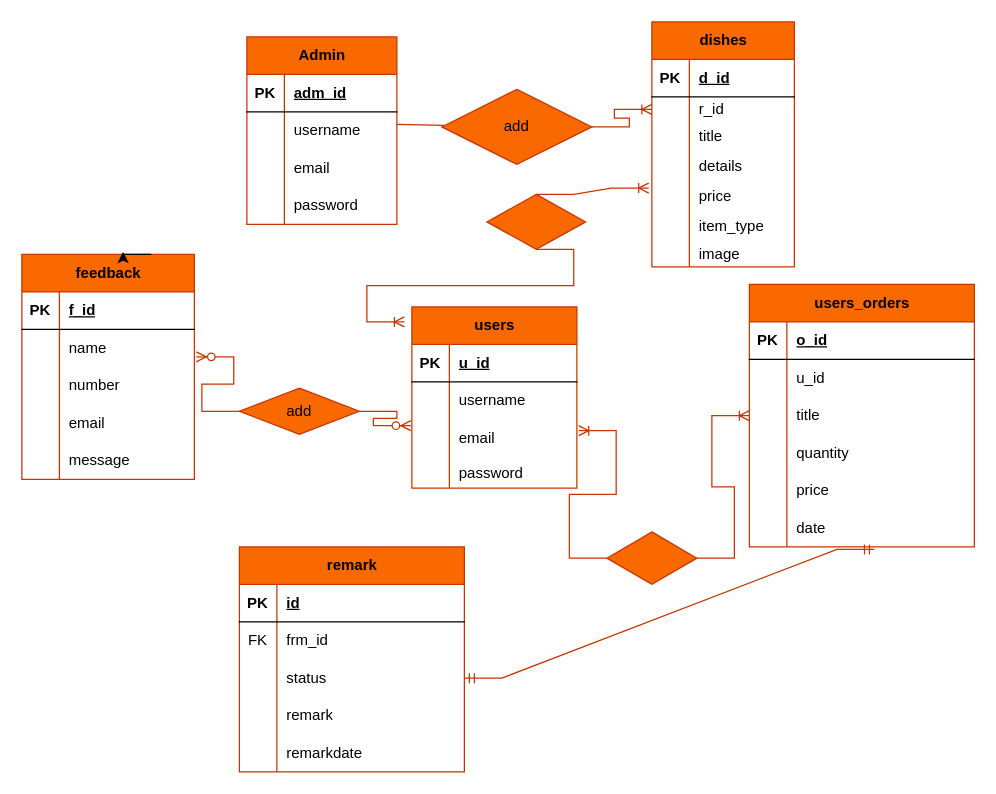
Some shapes in this 996 by 794 pixel diagram are drawn without their labels. Each missing label, with the centre of its shape:
"Order" belongs at [651,557].
"view" belongs at [536,221].
